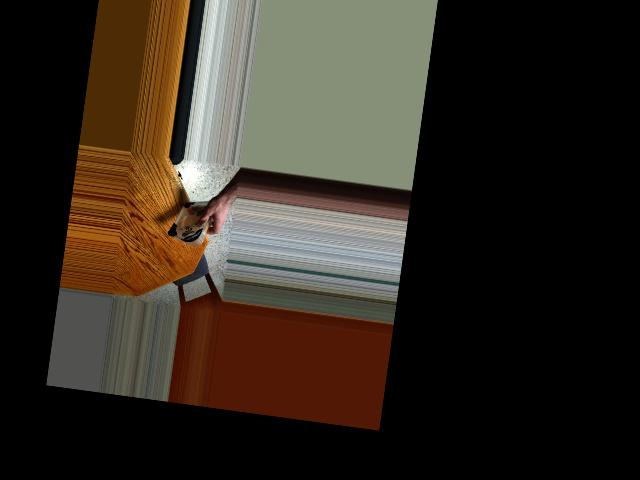cheese: (170, 191, 212, 245)
